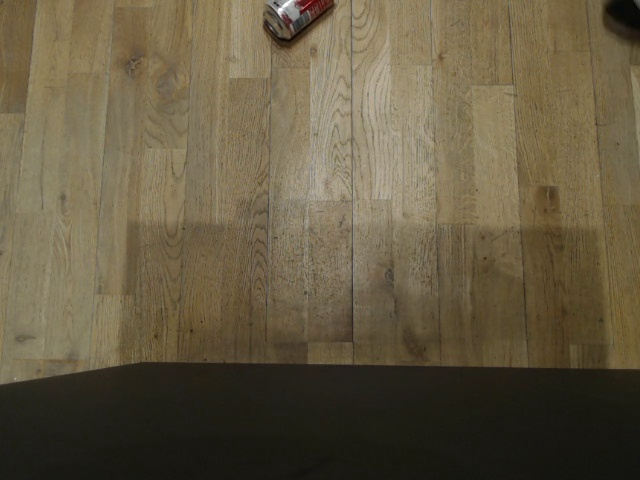cola: (260, 0, 338, 41)
